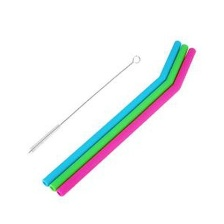drinking_straw: (37, 37, 203, 198)
